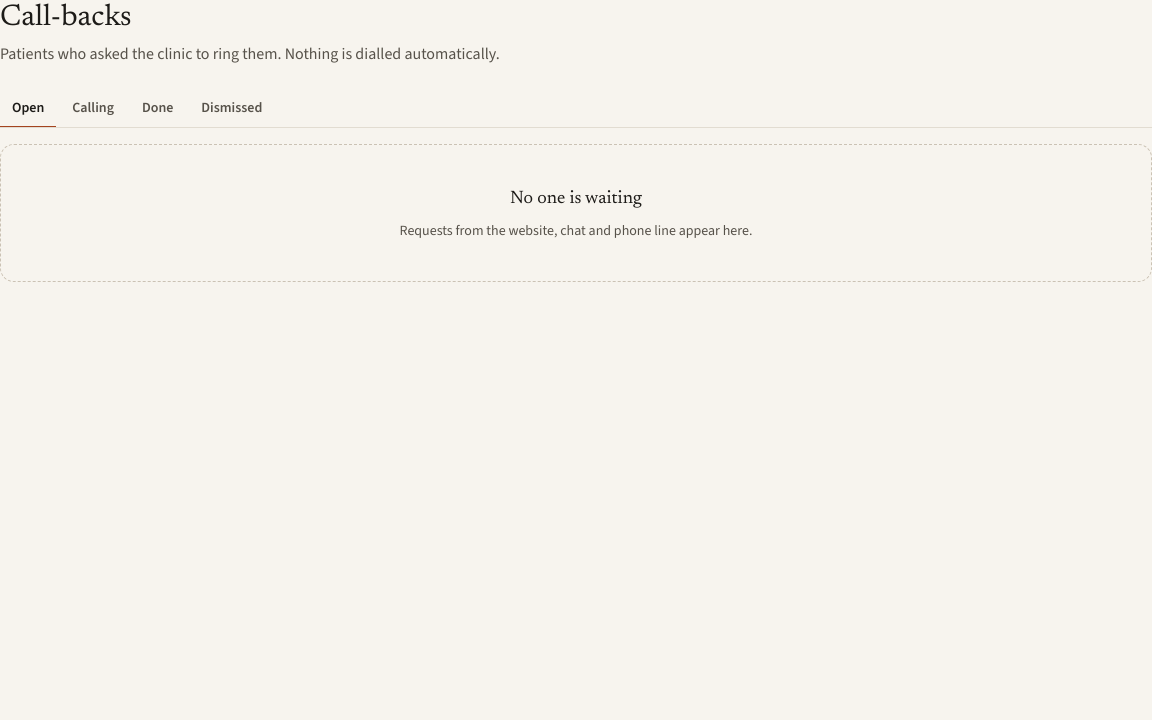
Test case: call outcomes and reopen › shows the outcome and reopens after confirming, without dialling
Click the tab "Calling" at (93, 108), box [60,90,126,128]
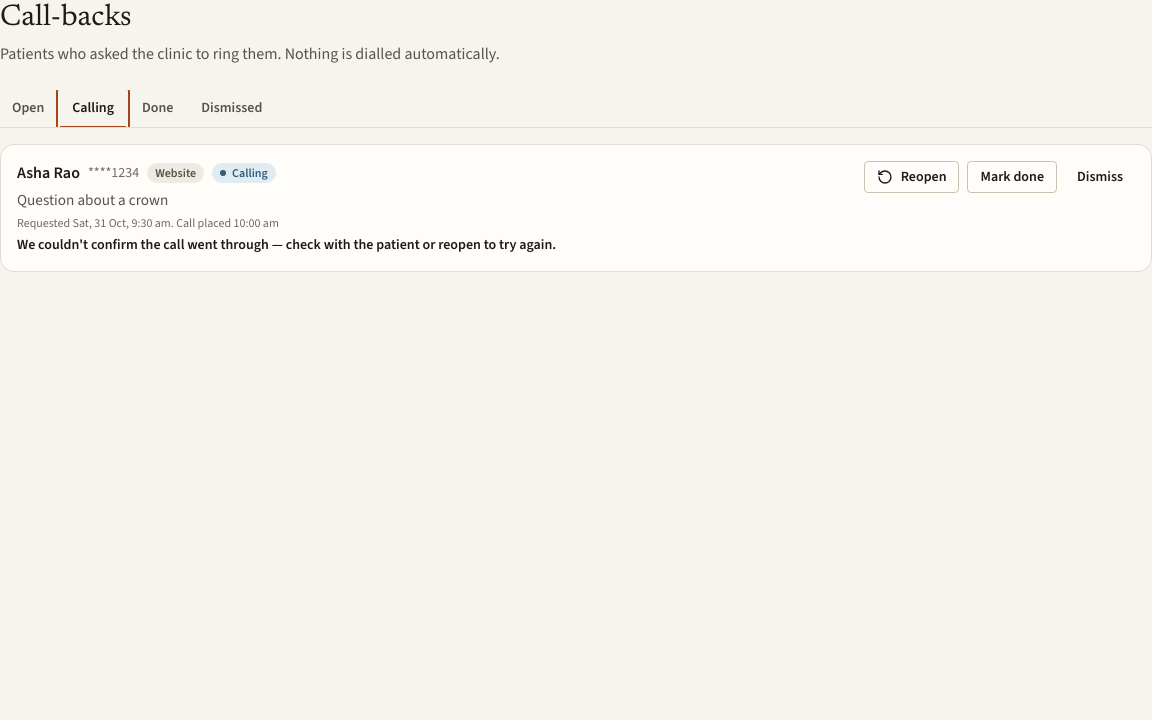
Now the text "We couldn't confirm the call went through — check with the patient or reopen to try again." is shown, box [17,235,556,254]
Click the button "Reopen" at (912, 176), box [864,160,960,192]
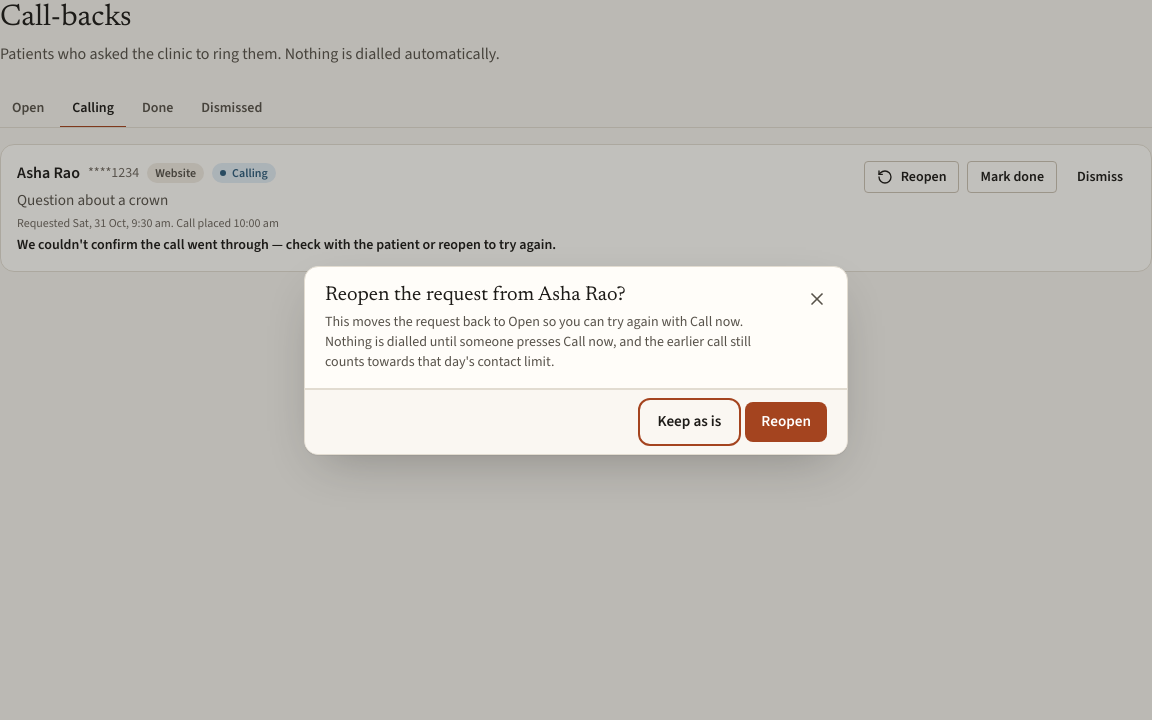
Now the text "Nothing is dialled" is shown, box [325,312,751,370]
Click the button "Keep as is" at (689, 422), box [642,402,737,442]
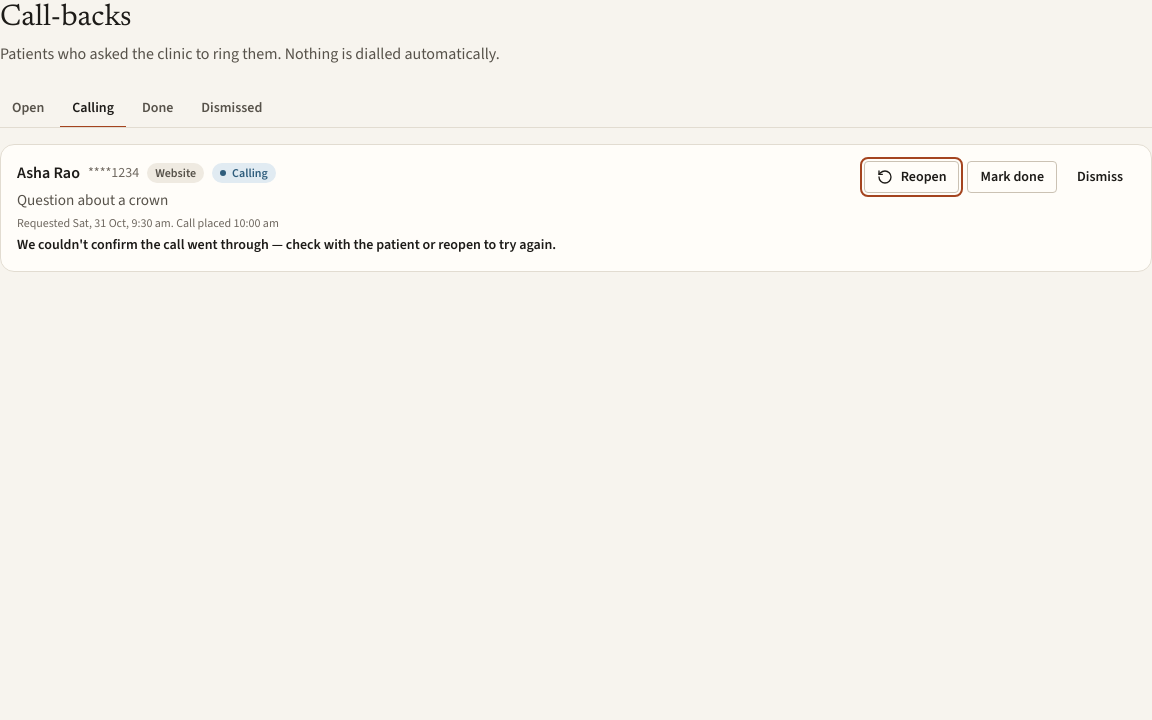
Click the button "Reopen" at (912, 176), box [864,160,960,192]
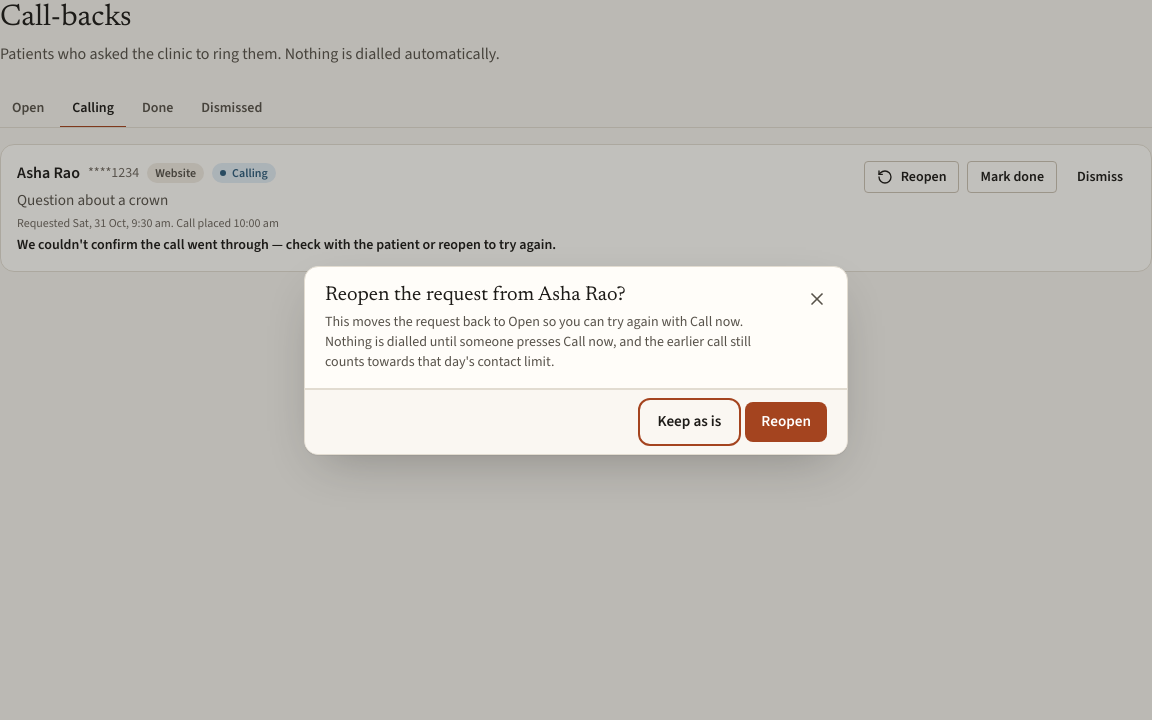
Click the button "Reopen" at (786, 422), box [745,402,827,442]
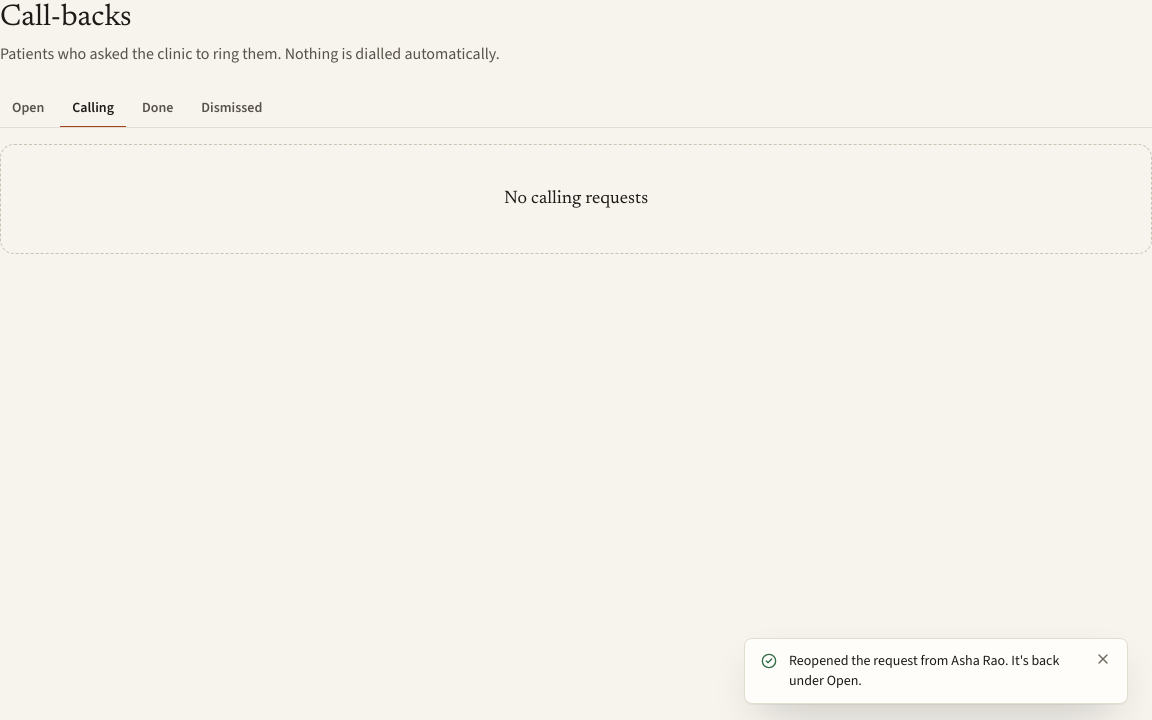
Now the text "Reopened the request from Asha Rao. It's back under Open." is shown, box [789,651,1083,691]
Now the text "We couldn't confirm the call went through — check with the patient or reopen to try again." is gone
